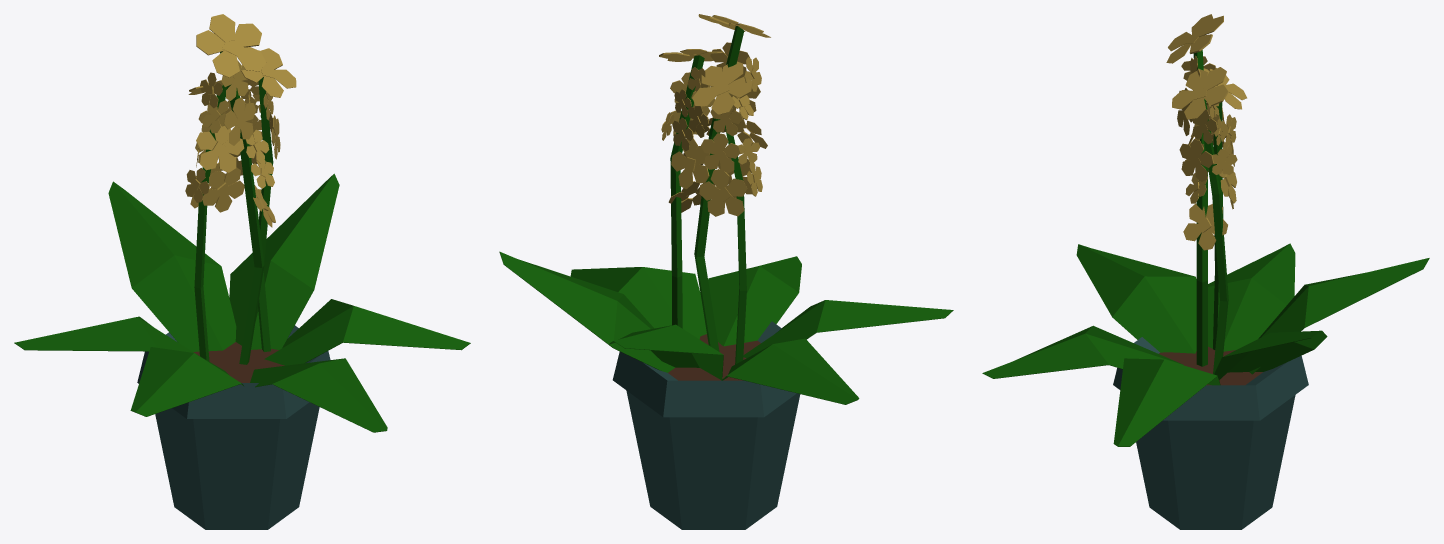
The model's file is FlowerPort.glb.
The picture shows the model from 3 angles, left to right: view 1: azimuth 30°, elevation 25°; view 2: azimuth 150°, elevation 25°; view 3: azimuth 270°, elevation 25°; orthographic projection. The views are drawn at different scales.
Parts seen in each view (by area): view 1: FlowerPot6; view 2: FlowerPot6; view 3: FlowerPot6.
Part boxes in pixels (x1,y1,x2,y2): FlowerPot6: [14, 14, 470, 529]; FlowerPot6: [499, 14, 953, 529]; FlowerPot6: [982, 14, 1429, 529].
Size of the model in its own units: 1.25 by 1.59 by 1.33.
